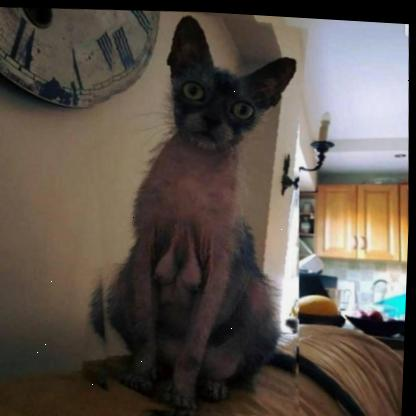cat: (74, 5, 314, 416)
